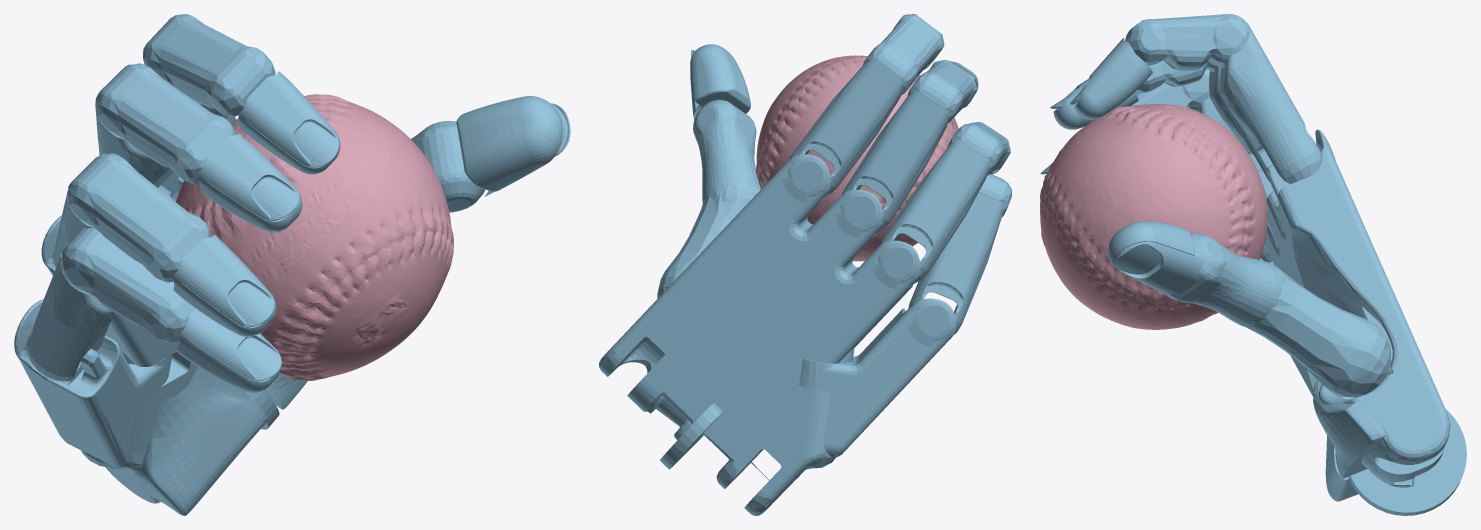
3 views of the same model, side by side, from view 1: azimuth 30°, elevation 25°; view 2: azimuth 150°, elevation 25°; view 3: azimuth 270°, elevation 25° (orthographic). The views are drawn at different scales.
Visible parts, largest first — view 1: world; view 2: world; view 3: world.
Part boxes in pixels (x1,y1,x2,y2): world: (14, 14, 570, 515); world: (599, 14, 1011, 515); world: (1040, 14, 1466, 515).
Bounding box in the file's own units: 0.1395 × 0.1653 × 0.1362.
